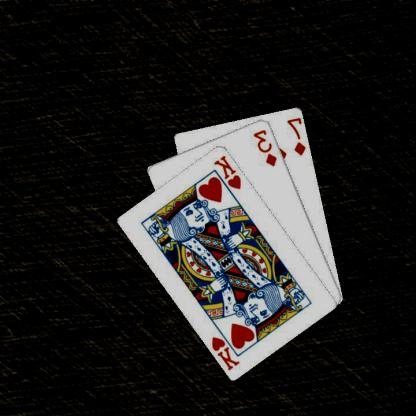3D: (253, 127, 280, 168)
7D: (286, 115, 309, 157)
KH: (211, 333, 243, 371), (214, 152, 245, 190)
